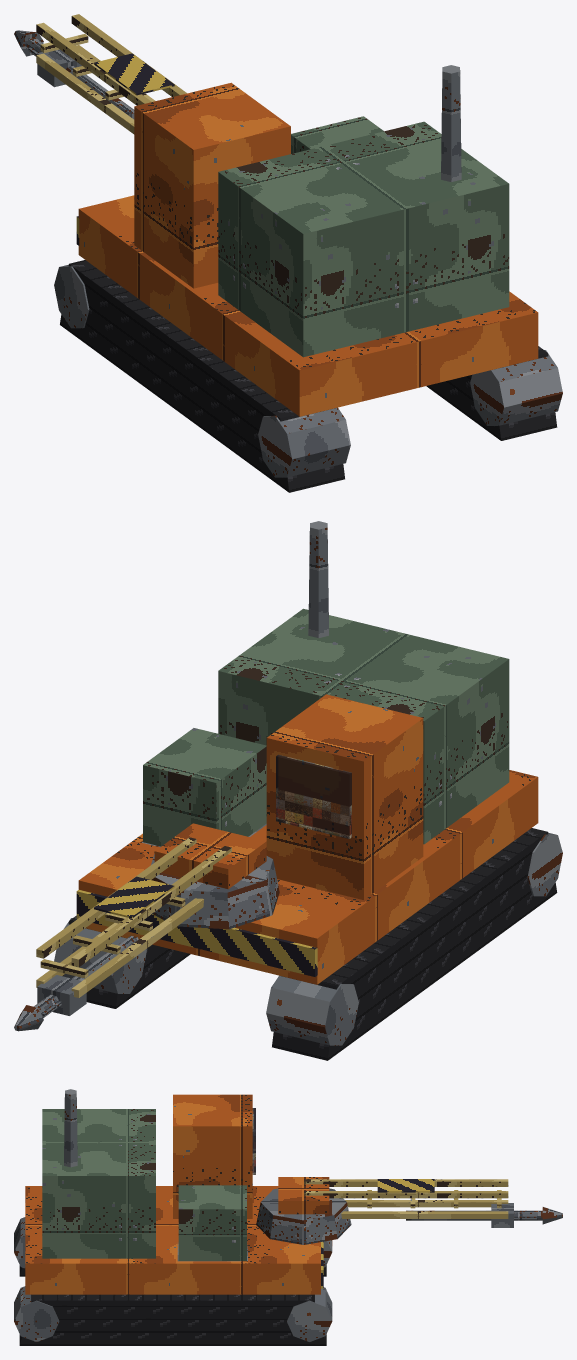
File: machinery__improved_rig.glb
3 renders of one model, top to bottom at view 1: azimuth 30°, elevation 25°; view 2: azimuth 150°, elevation 25°; view 3: azimuth 270°, elevation 25°, orthographic. The views are drawn at different scales.
Visible parts, largest first — view 1: _MeshInstance3D_88, _MeshInstance3D_89, _MeshInstance3D_86, _MeshInstance3D_87, _MeshInstance3D_97, _MeshInstance3D_99, _MeshInstance3D_101, _MeshInstance3D_98; view 2: _MeshInstance3D_89, _MeshInstance3D_88, _MeshInstance3D_86, _MeshInstance3D_87, _MeshInstance3D_97, _MeshInstance3D_91, _MeshInstance3D_90, _MeshInstance3D_94, _MeshInstance3D_95, _MeshInstance3D_99, _MeshInstance3D_101, _MeshInstance3D_98; view 3: _MeshInstance3D_89, _MeshInstance3D_88, _MeshInstance3D_86, _MeshInstance3D_97, _MeshInstance3D_87, _MeshInstance3D_94, _MeshInstance3D_95, _MeshInstance3D_101, _MeshInstance3D_99, _MeshInstance3D_98.
Boxes of the visible parts, box(x1,y1,x2,y2) form: _MeshInstance3D_88: box(218, 116, 509, 357); _MeshInstance3D_89: box(78, 82, 538, 416); _MeshInstance3D_86: box(60, 260, 557, 492); _MeshInstance3D_87: box(54, 65, 562, 477); _MeshInstance3D_97: box(36, 14, 186, 134); _MeshInstance3D_99: box(94, 53, 174, 95); _MeshInstance3D_101: box(14, 30, 134, 119); _MeshInstance3D_98: box(37, 49, 81, 87); _MeshInstance3D_89: box(78, 694, 538, 984); _MeshInstance3D_88: box(143, 608, 509, 846); _MeshInstance3D_86: box(68, 828, 557, 1060); _MeshInstance3D_87: box(54, 521, 562, 1045); _MeshInstance3D_97: box(36, 837, 231, 997); _MeshInstance3D_91: box(276, 754, 351, 838); _MeshInstance3D_90: box(76, 890, 317, 976); _MeshInstance3D_94: box(151, 854, 279, 929); _MeshInstance3D_95: box(154, 823, 266, 889); _MeshInstance3D_99: box(94, 876, 174, 918); _MeshInstance3D_101: box(14, 935, 138, 1031); _MeshInstance3D_98: box(37, 975, 86, 1015); _MeshInstance3D_89: box(25, 1094, 320, 1294); _MeshInstance3D_88: box(42, 1109, 246, 1260); _MeshInstance3D_86: box(19, 1265, 326, 1345); _MeshInstance3D_97: box(304, 1179, 508, 1218); _MeshInstance3D_87: box(14, 1089, 332, 1341); _MeshInstance3D_94: box(256, 1188, 351, 1244); _MeshInstance3D_95: box(278, 1177, 329, 1214); _MeshInstance3D_101: box(406, 1207, 562, 1224); _MeshInstance3D_99: box(377, 1179, 434, 1192); _MeshInstance3D_98: box(491, 1203, 513, 1227).
Size of the model in its own units: 1.84 by 2.25 by 4.83.
Materials: 7 (7 with a texture image).
